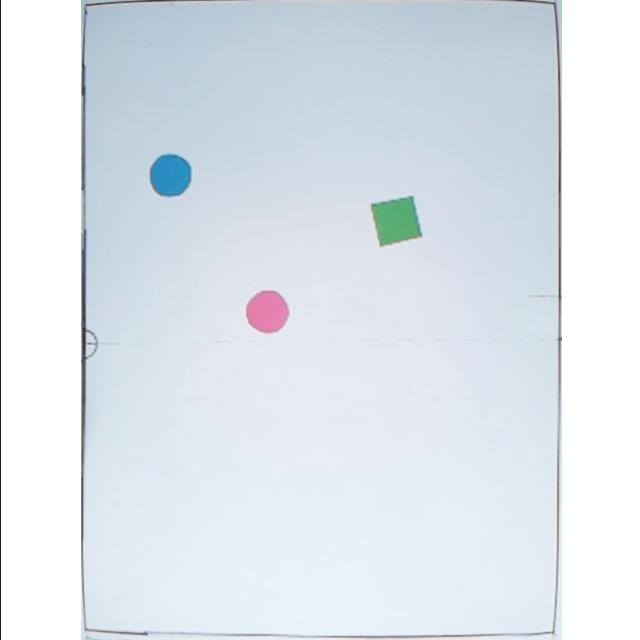blueCircle: (147, 153, 190, 199)
greenSquare: (367, 192, 423, 246)
pinkCircle: (242, 288, 288, 334)
